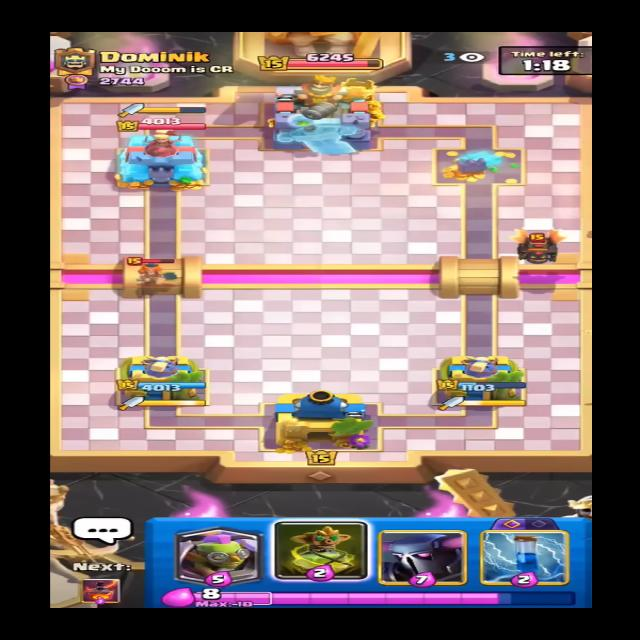lava-hound: (489, 227, 582, 265)
valkyrie: (120, 254, 180, 290)
